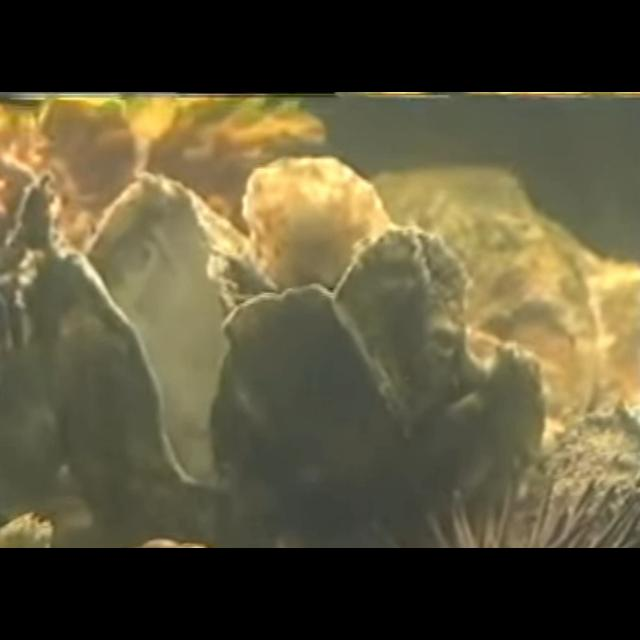Oyster-Closed: (208, 284, 410, 548), (332, 228, 470, 440), (410, 344, 548, 548), (242, 157, 390, 299), (514, 408, 640, 548)
Oyster-Open: (20, 174, 278, 548)
